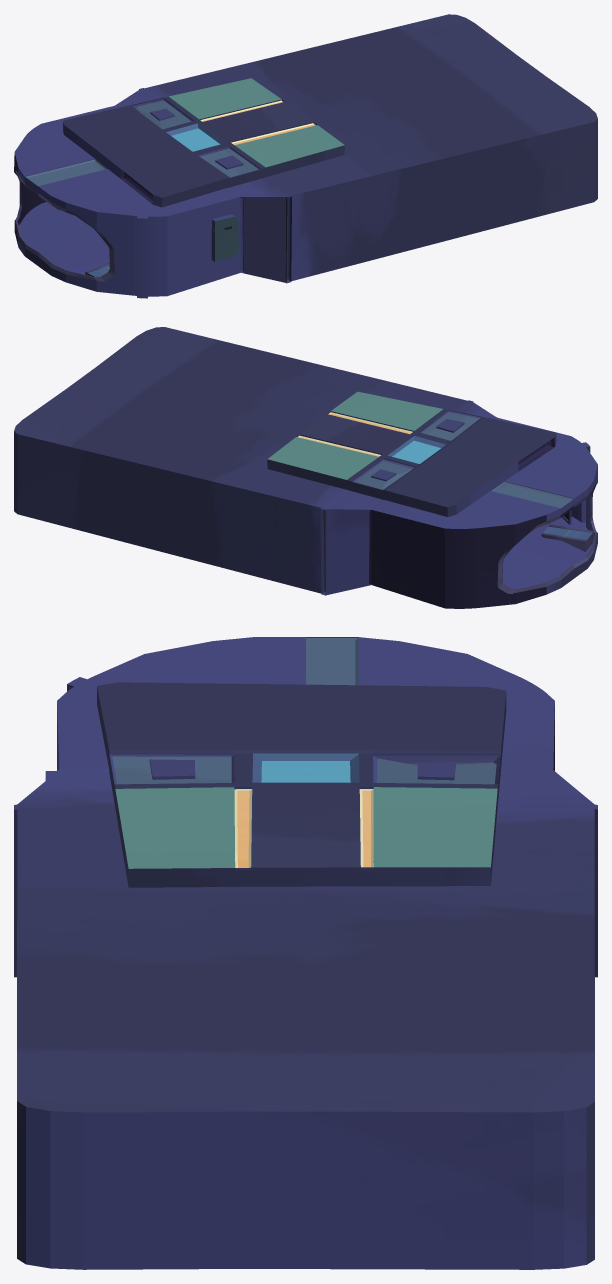
Rendered from espacioRealidadVirtual.fbx.
3 views of the same model, one above another, from view 1: azimuth 30°, elevation 25°; view 2: azimuth 150°, elevation 25°; view 3: azimuth 270°, elevation 25° (orthographic). The views are drawn at different scales.
Parts seen in each view (by area): view 1: NaveEspacial, MarcoVentana; view 2: NaveEspacial, MarcoVentana, Cube; view 3: NaveEspacial.
Boxes of the visible parts, x1,y1,x2,y2 form: NaveEspacial: (14,14,597,298); MarcoVentana: (15,170,114,281); NaveEspacial: (14,327,597,608); MarcoVentana: (497,482,597,593); Cube: (541,524,593,551); NaveEspacial: (14,637,597,1269).
Bounding box in the file's own units: 1945 × 362 × 1010.
1 material, 1 textured.
